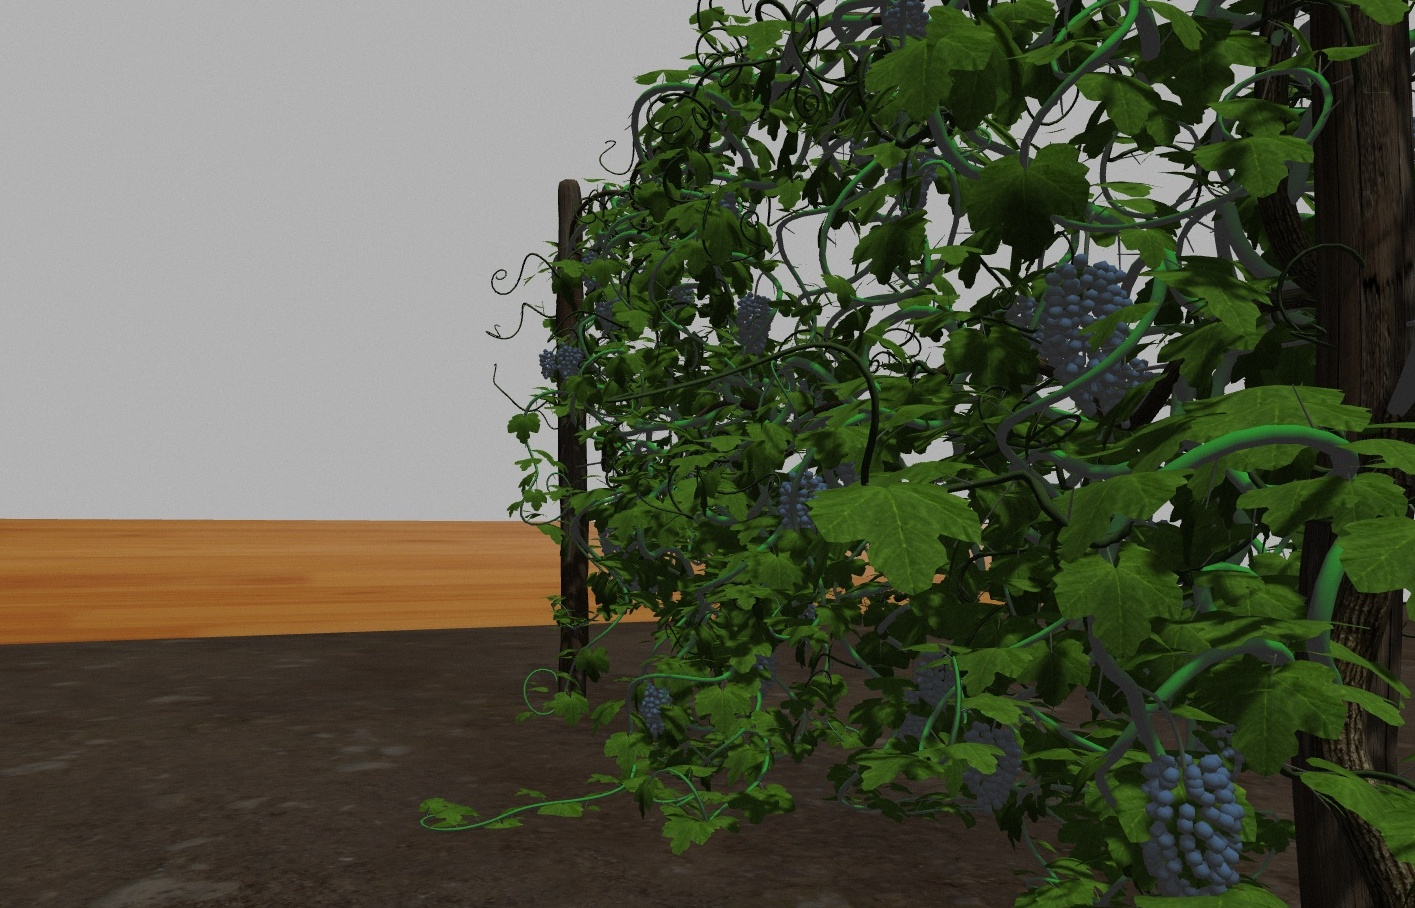grape: (1142, 752, 1250, 907), (1041, 255, 1137, 412), (961, 720, 1023, 817), (776, 467, 826, 540), (916, 649, 957, 709), (734, 293, 774, 350), (640, 685, 674, 739), (883, 2, 929, 40), (555, 344, 583, 380), (537, 347, 558, 381)
